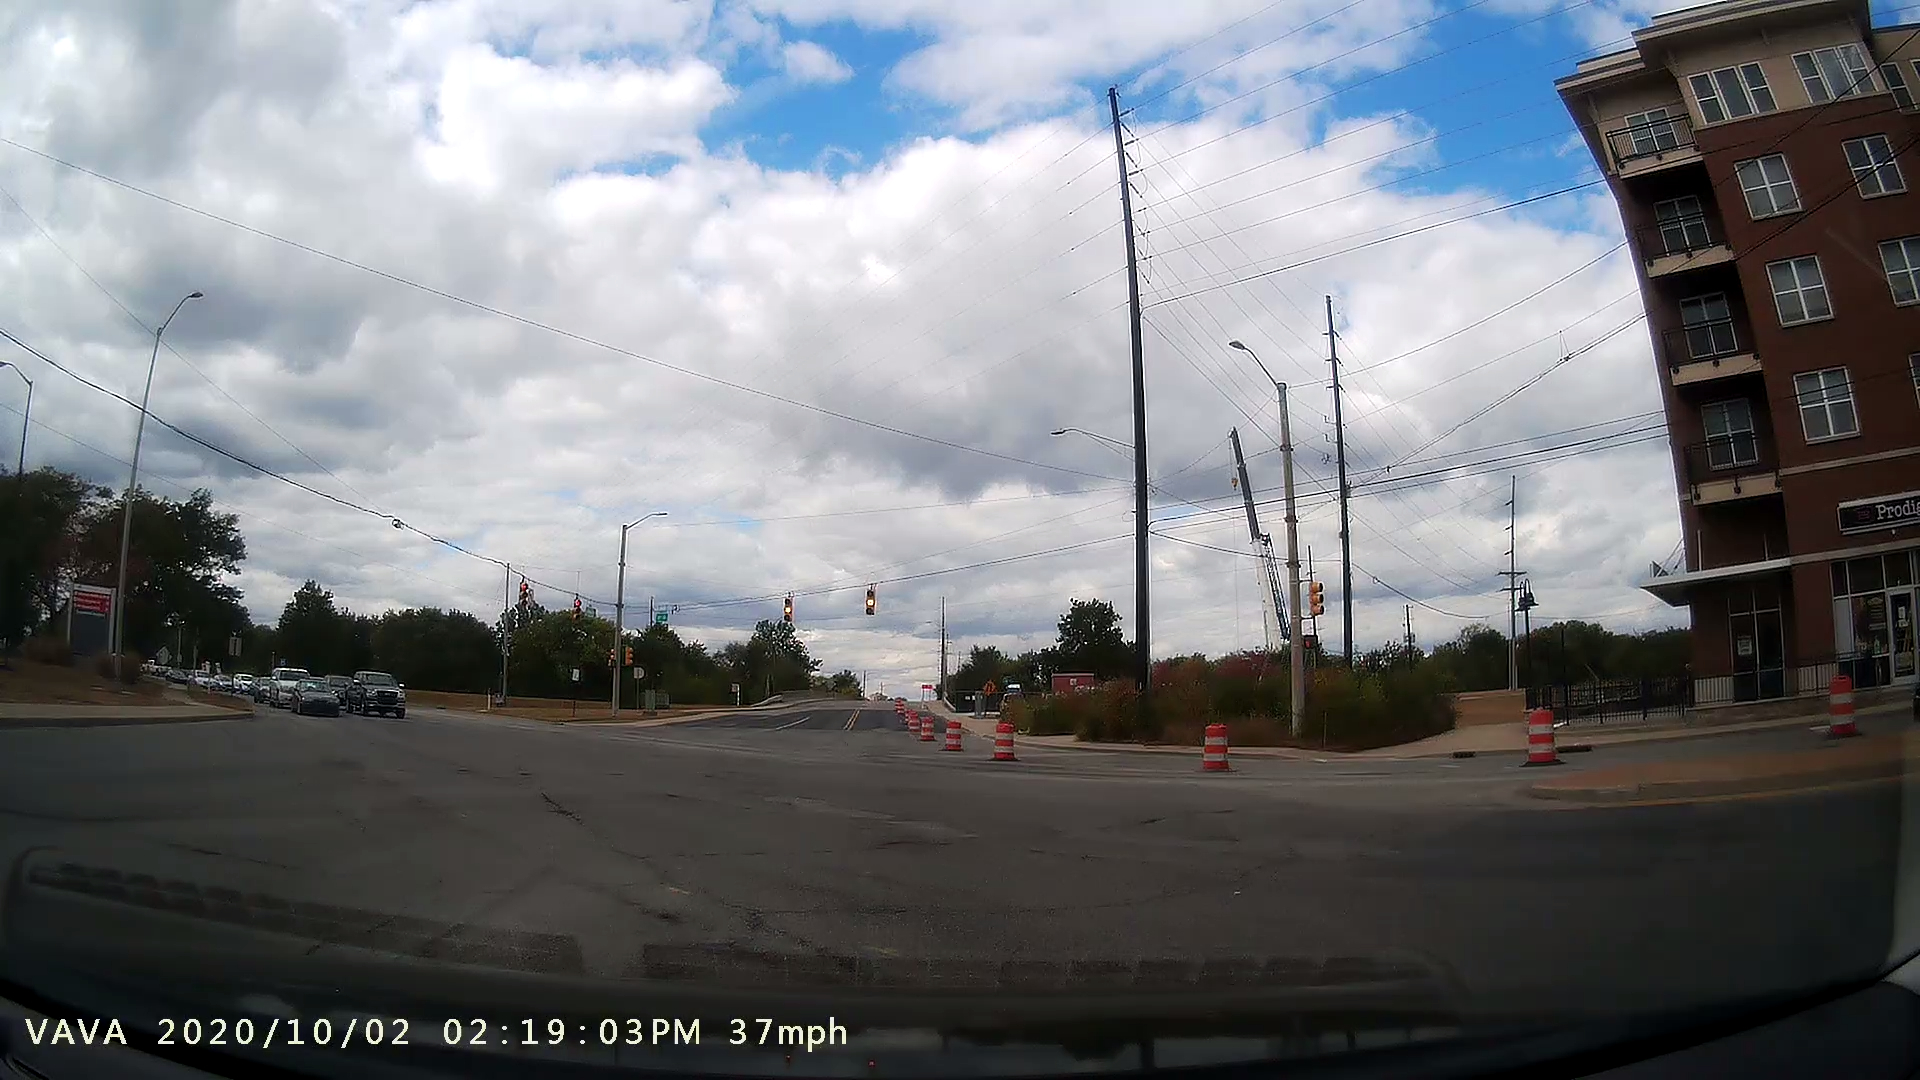const_barrel: (1509, 695, 1571, 777), (1193, 713, 1236, 781), (984, 715, 1025, 767), (935, 712, 971, 761)
